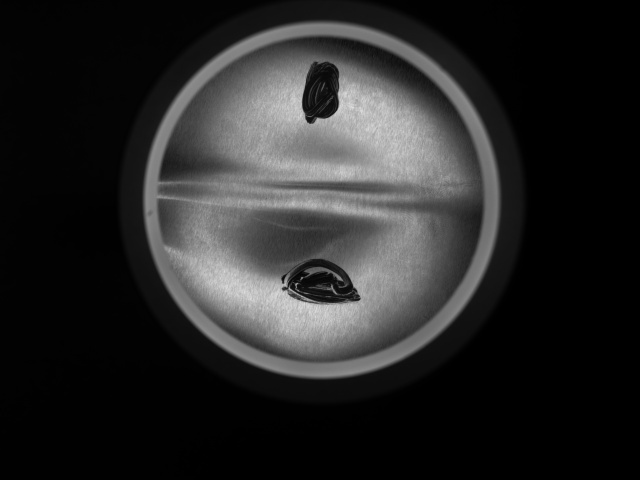zang_wu: (278, 255, 365, 307), (298, 58, 348, 126)
zhe_zhou: (200, 68, 444, 331)
